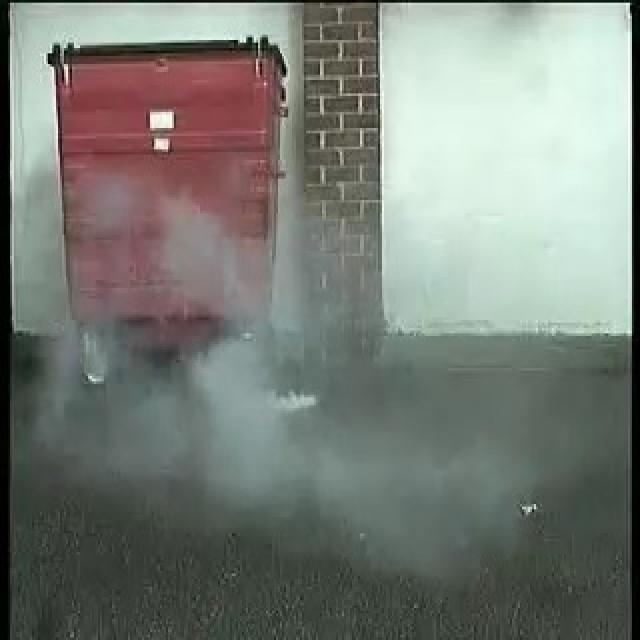smoke: (188, 241, 320, 455)
